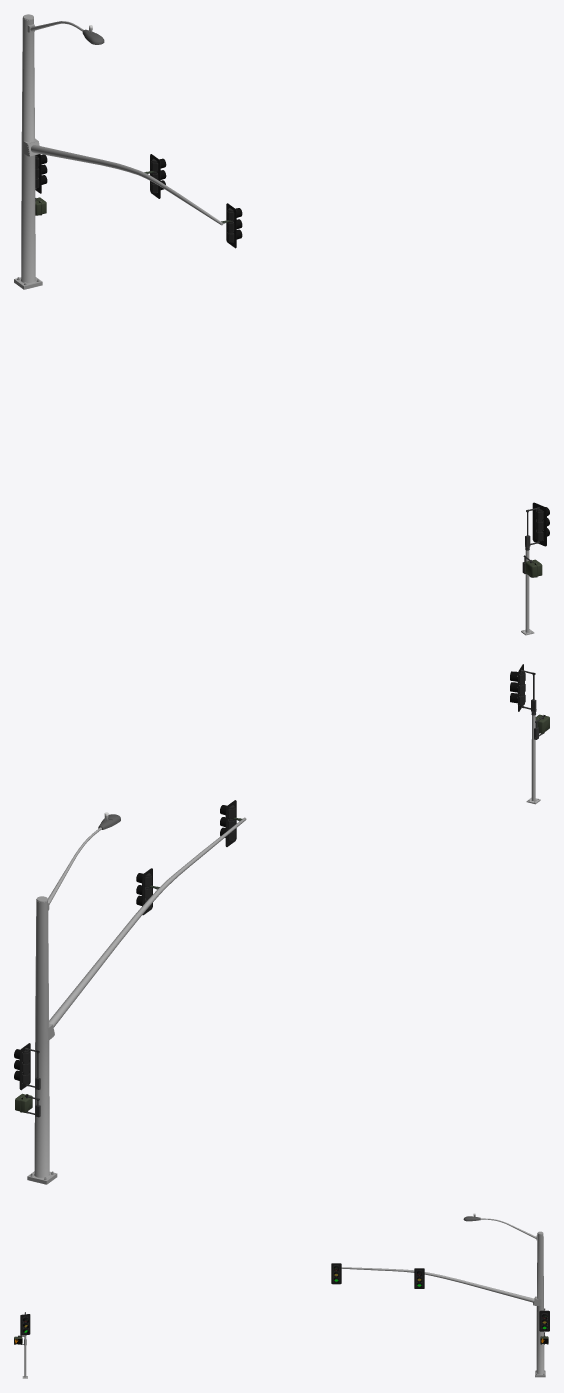
Rendered from Basic California Style Traffic Signal Mast Arm.fbx.
The picture shows the model from 3 angles, top to bottom: view 1: azimuth 30°, elevation 25°; view 2: azimuth 150°, elevation 25°; view 3: azimuth 270°, elevation 25°; orthographic projection. The views are drawn at different scales.
Visible parts, largest first — view 1: Cylinder.035; view 2: Cylinder.035, Cylinder.044; view 3: Cylinder.035.
Boxes of the visible parts, x1,y1,x2,y2 form: Cylinder.035: (14, 14, 232, 289); Cylinder.035: (25, 812, 246, 1184); Cylinder.044: (521, 669, 544, 804); Cylinder.035: (336, 1213, 545, 1377).
Size of the model in its own units: 172 by 1092 by 3287.
